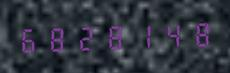eight: (45, 22, 72, 54), (101, 20, 128, 52), (185, 17, 212, 49)
four: (157, 18, 184, 50)
one: (129, 19, 156, 51)
six: (17, 23, 44, 55)
two: (73, 21, 100, 53)
